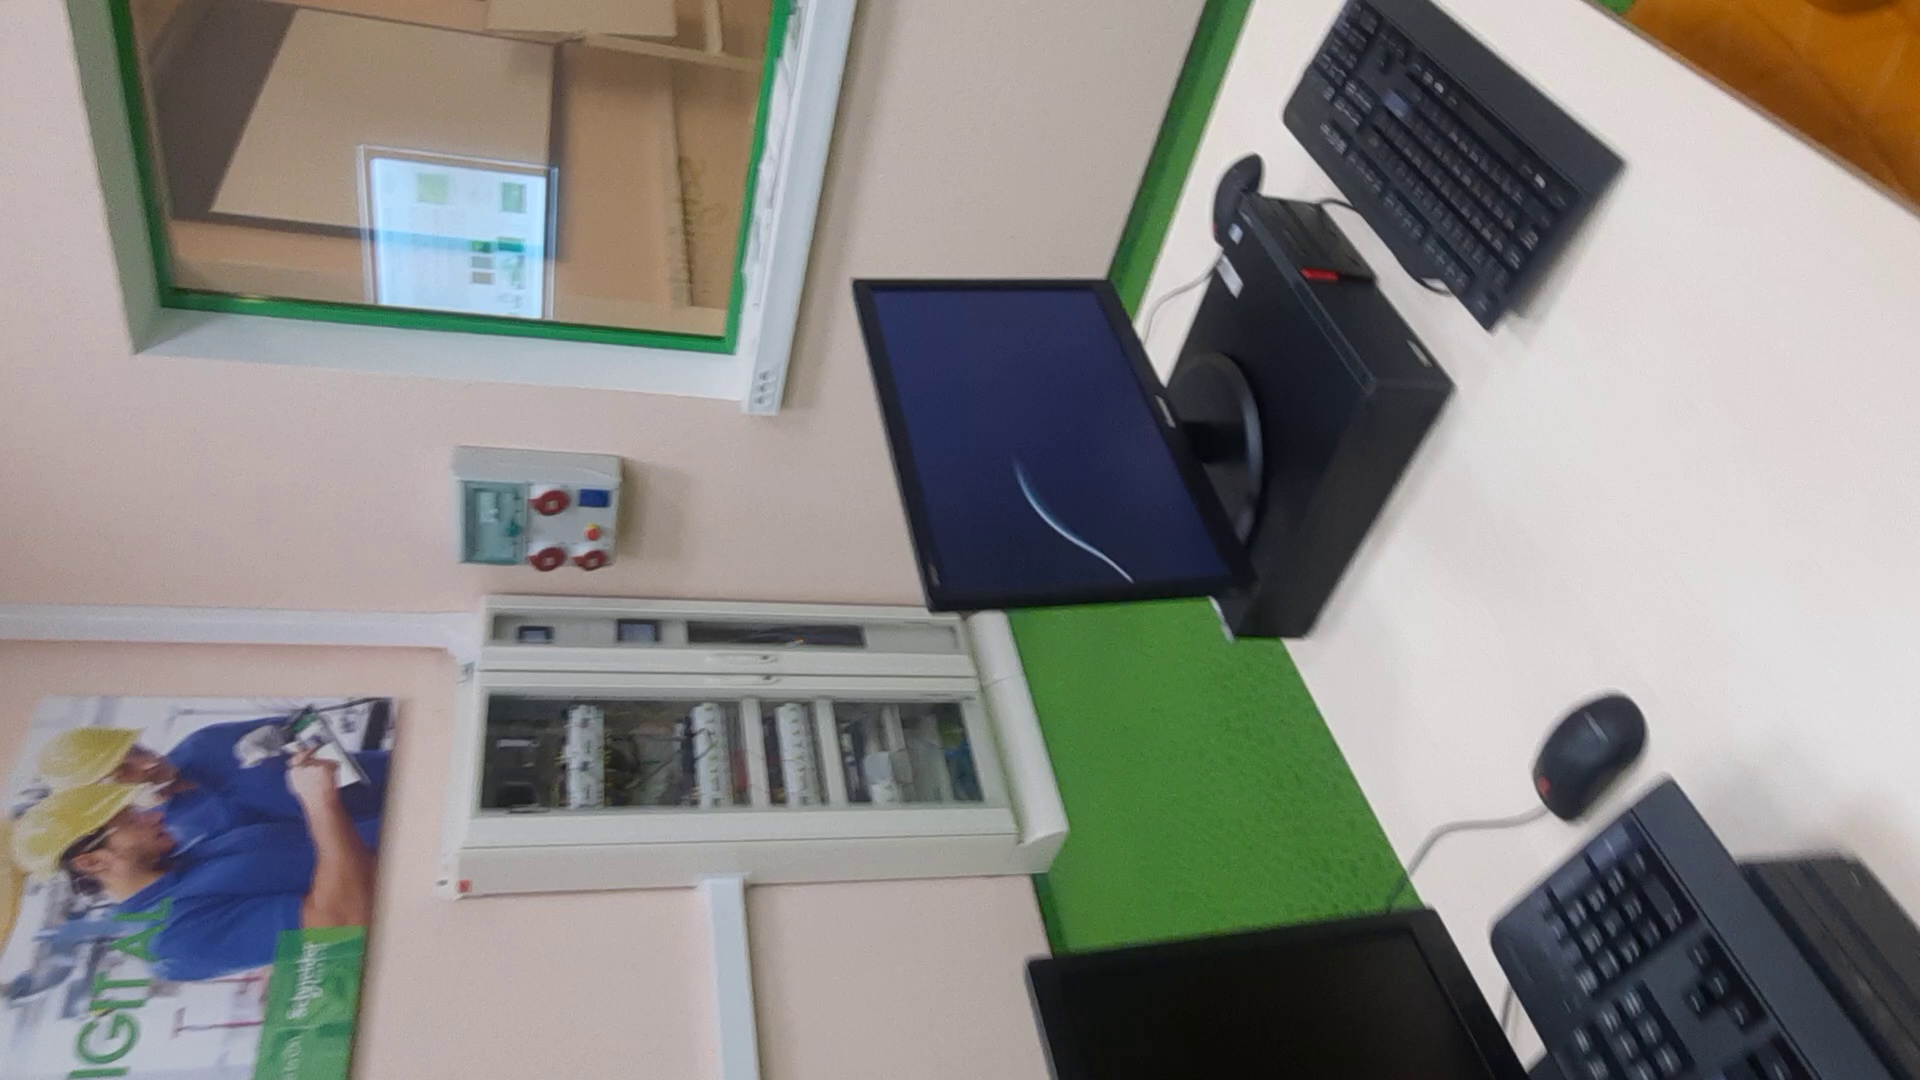stand1: (429, 574, 919, 894)
